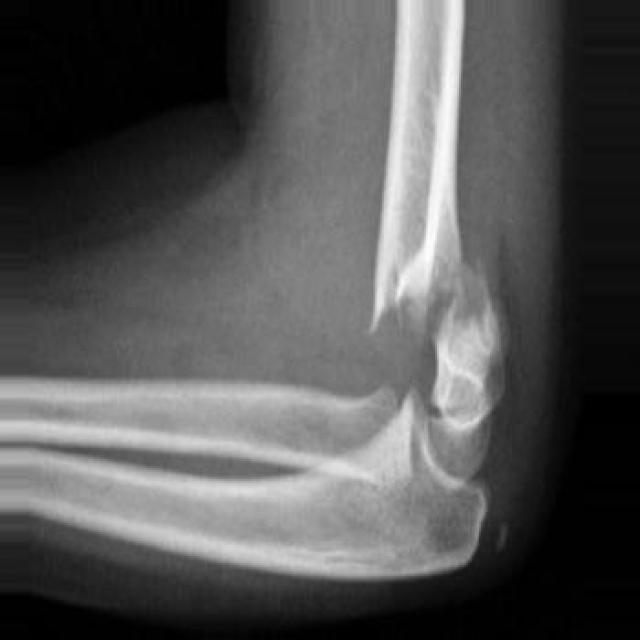Fracture: (353, 284, 452, 421)
